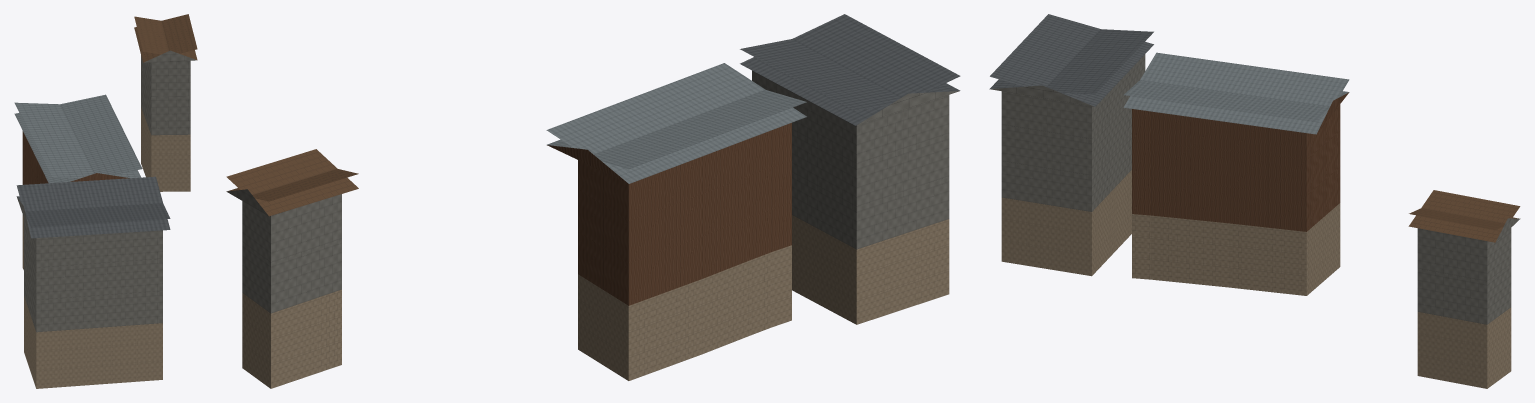
File: bld_c41_-48_461.gltf
3 views of the same model, side by side, from view 1: azimuth 30°, elevation 25°; view 2: azimuth 150°, elevation 25°; view 3: azimuth 270°, elevation 25° (orthographic). The views are drawn at different scales.
Parts seen in each view (by area): view 1: bld_c41_-48_461; view 2: bld_c41_-48_461; view 3: bld_c41_-48_461.
Boxes of the visible parts, x1,y1,x2,y2 form: bld_c41_-48_461: [14, 14, 197, 388]; bld_c41_-48_461: [226, 14, 960, 388]; bld_c41_-48_461: [989, 14, 1520, 388].
Size of the model in its own units: 33.42 by 14.8 by 38.26.
8 materials, 8 textured.
